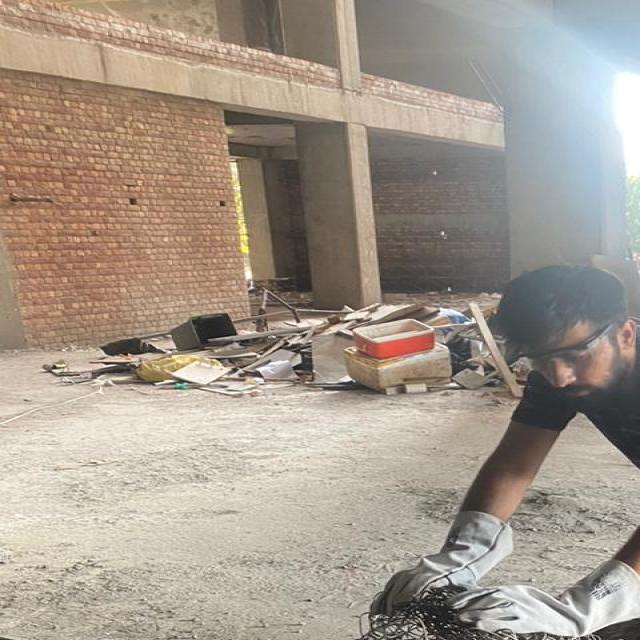Glove: (361, 508, 521, 616), (444, 553, 640, 640)
Goggles: (510, 317, 629, 381)
